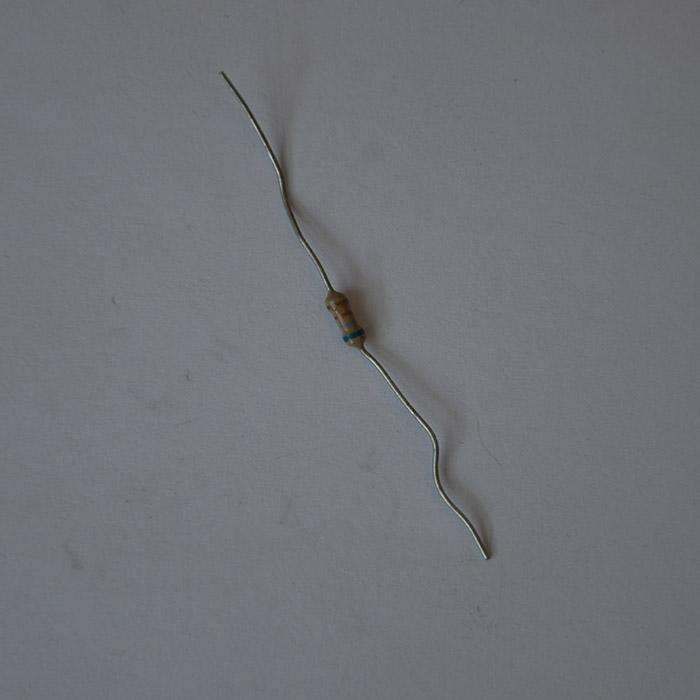resistor: (325, 289, 364, 349)
